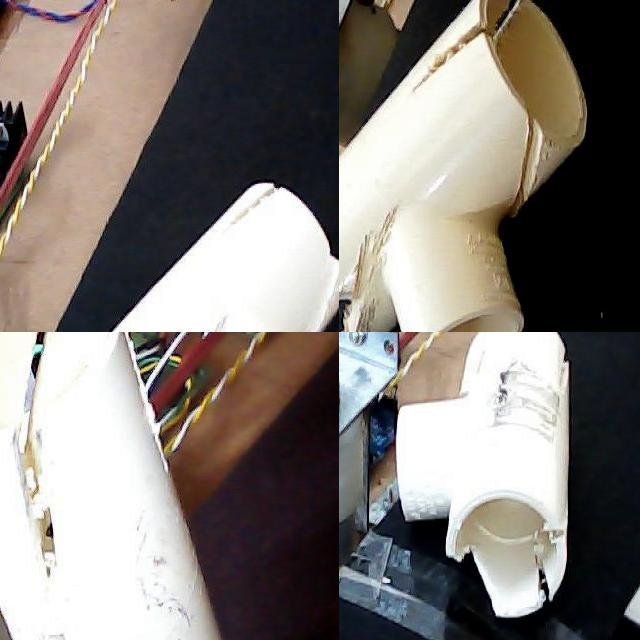Defective: (447, 494, 576, 622), (18, 332, 78, 598), (409, 22, 511, 116), (343, 197, 411, 300), (496, 339, 556, 454), (510, 96, 544, 212), (339, 285, 398, 332), (316, 244, 339, 332), (248, 184, 277, 229), (500, 0, 534, 31)
T Joint: (339, 0, 589, 332), (396, 332, 571, 622), (109, 184, 339, 332)
